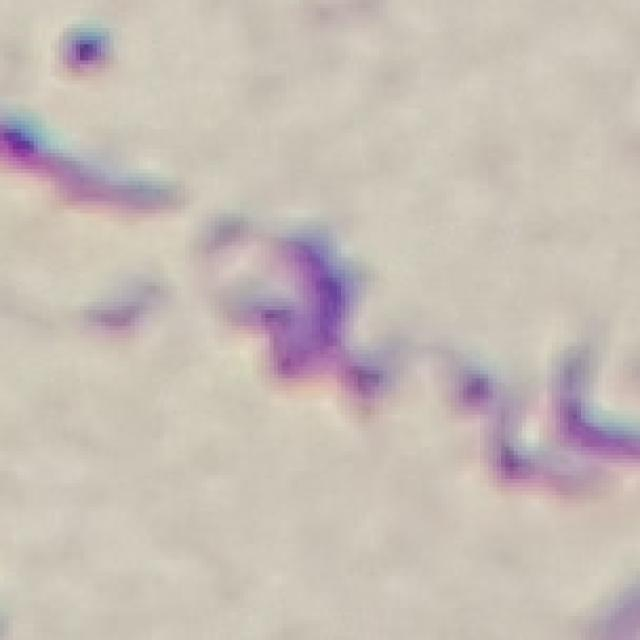non-sperm: (99, 121, 525, 499)
